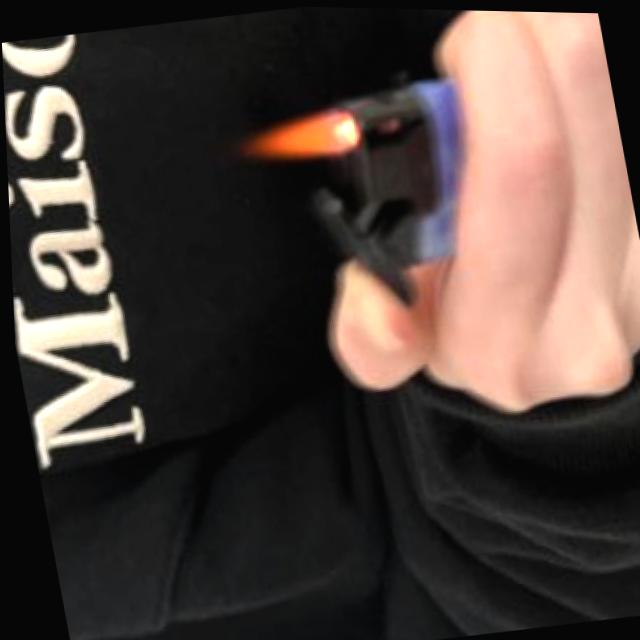fire: (233, 99, 359, 174)
